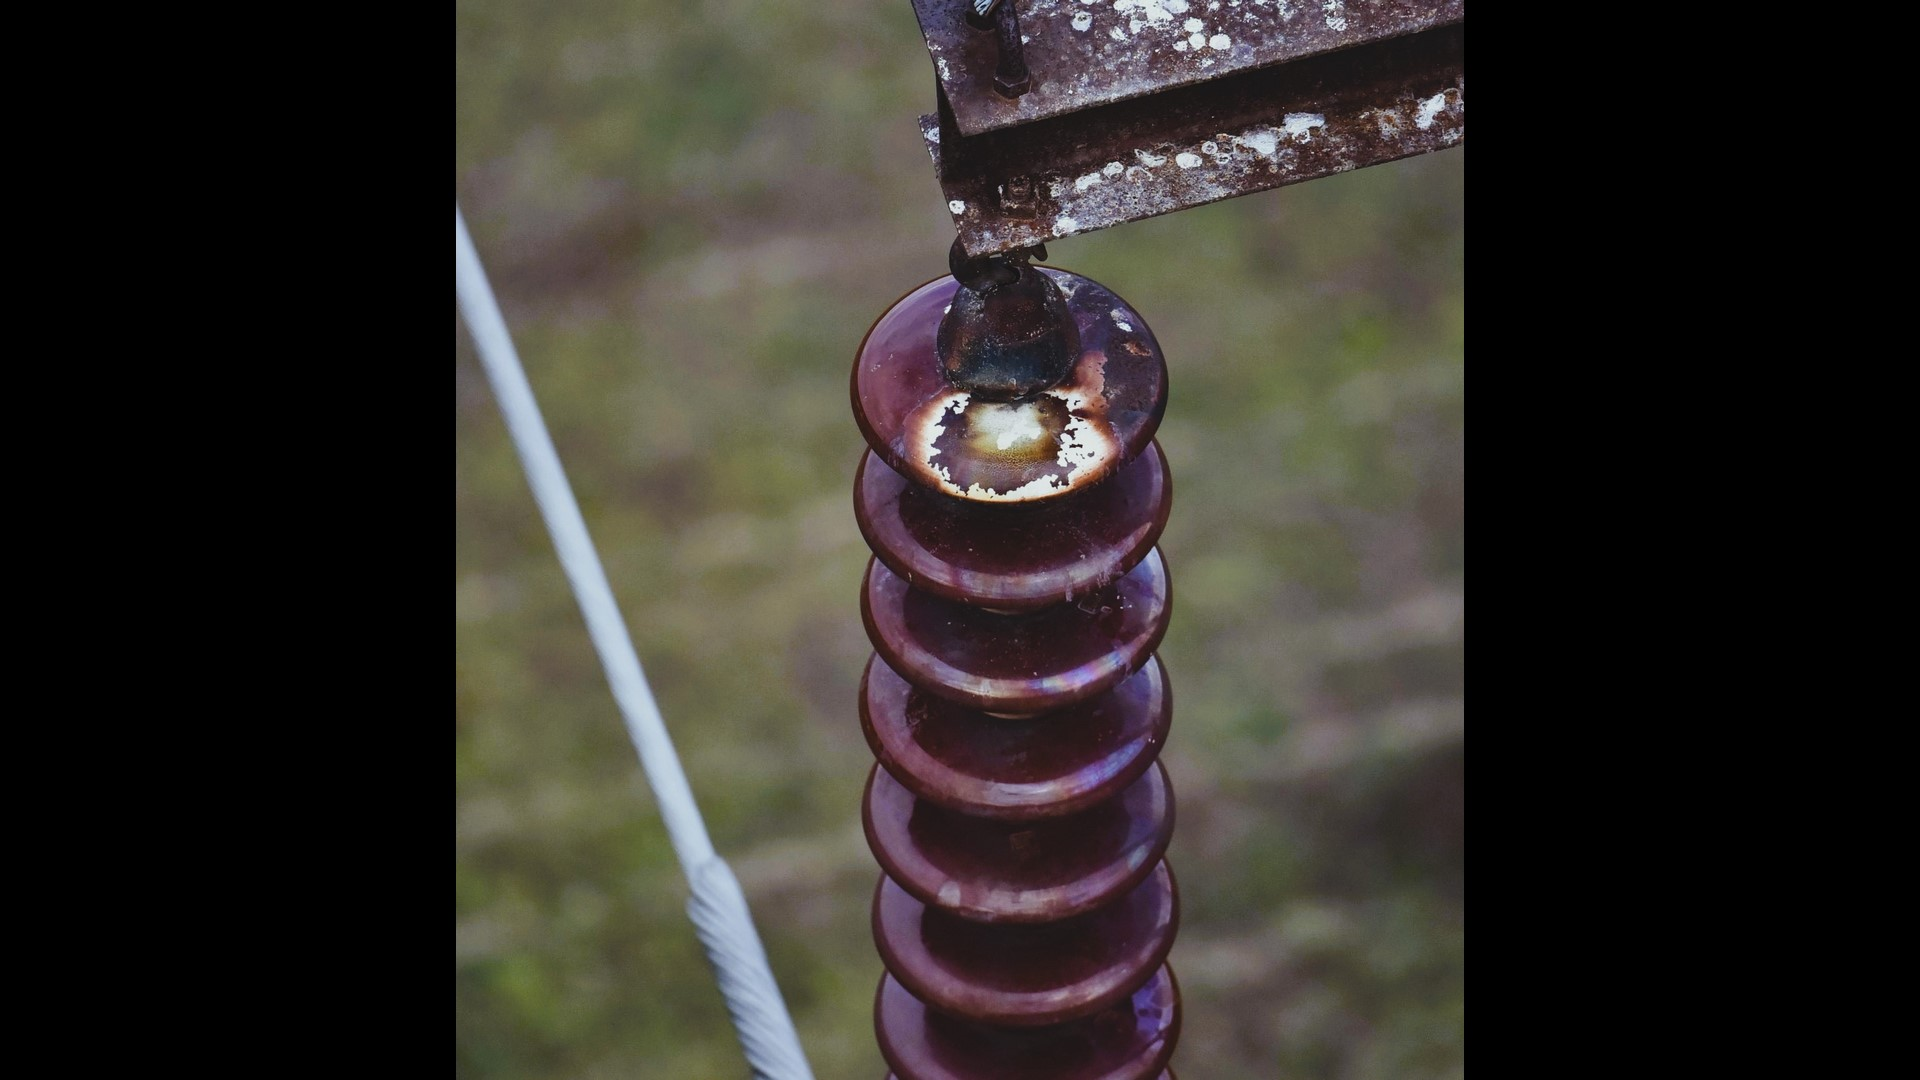Insulator flashover: (828, 256, 1184, 513)
